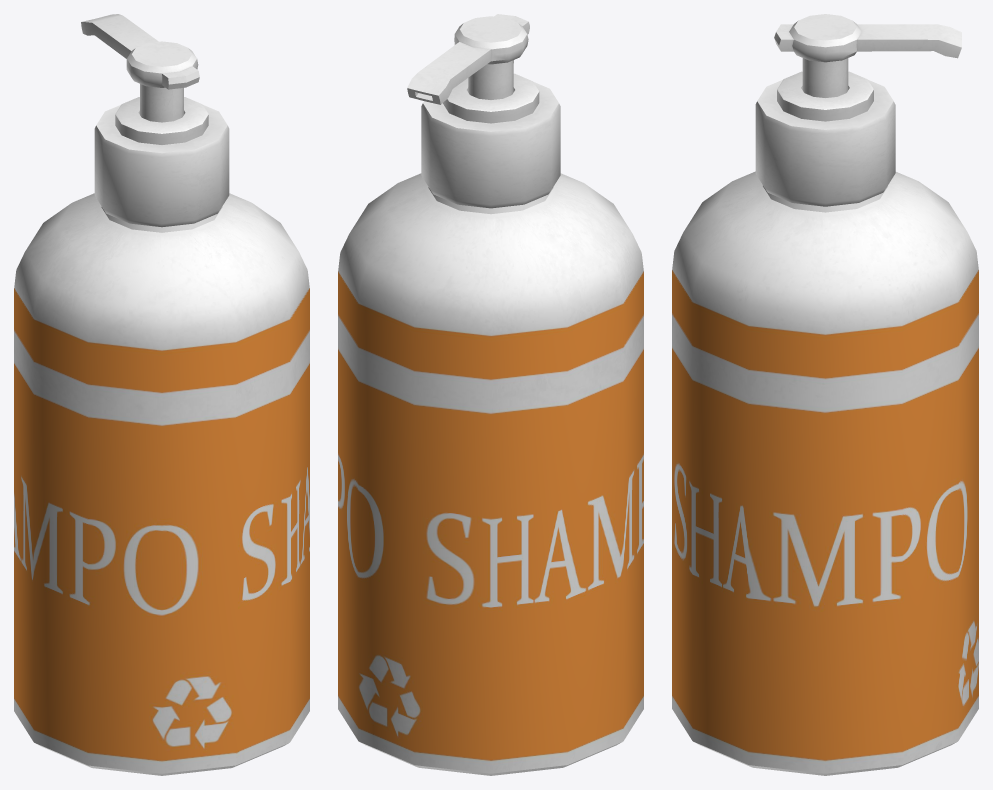
The model's file is shapo bottle.fbx.
The picture shows the model from 3 angles, left to right: view 1: azimuth 30°, elevation 25°; view 2: azimuth 150°, elevation 25°; view 3: azimuth 270°, elevation 25°; orthographic projection. The views are drawn at different scales.
Parts seen in each view (by area): view 1: defaultMaterial; view 2: defaultMaterial; view 3: defaultMaterial.
Part boxes in pixels (<box>): defaultMaterial: <box>14,14,309,775</box>; defaultMaterial: <box>338,14,643,775</box>; defaultMaterial: <box>672,14,978,775</box>.
Bounding box in the file's own units: 80.89 × 200 × 80.89.
1 material, 1 textured.
